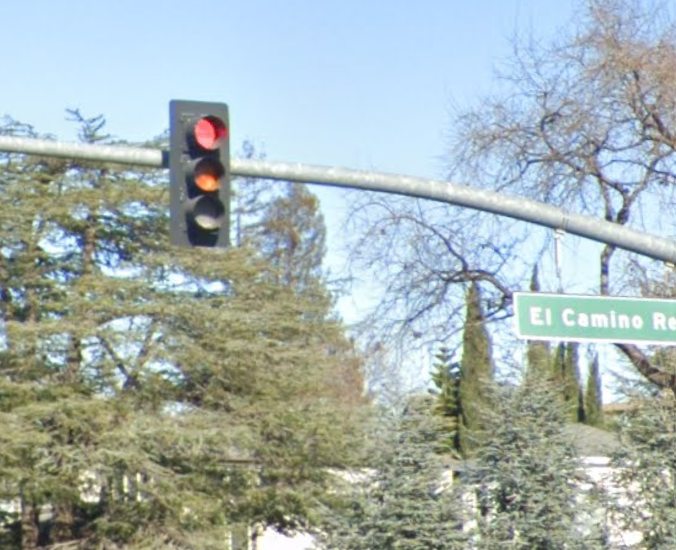red_light: (174, 100, 229, 242)
